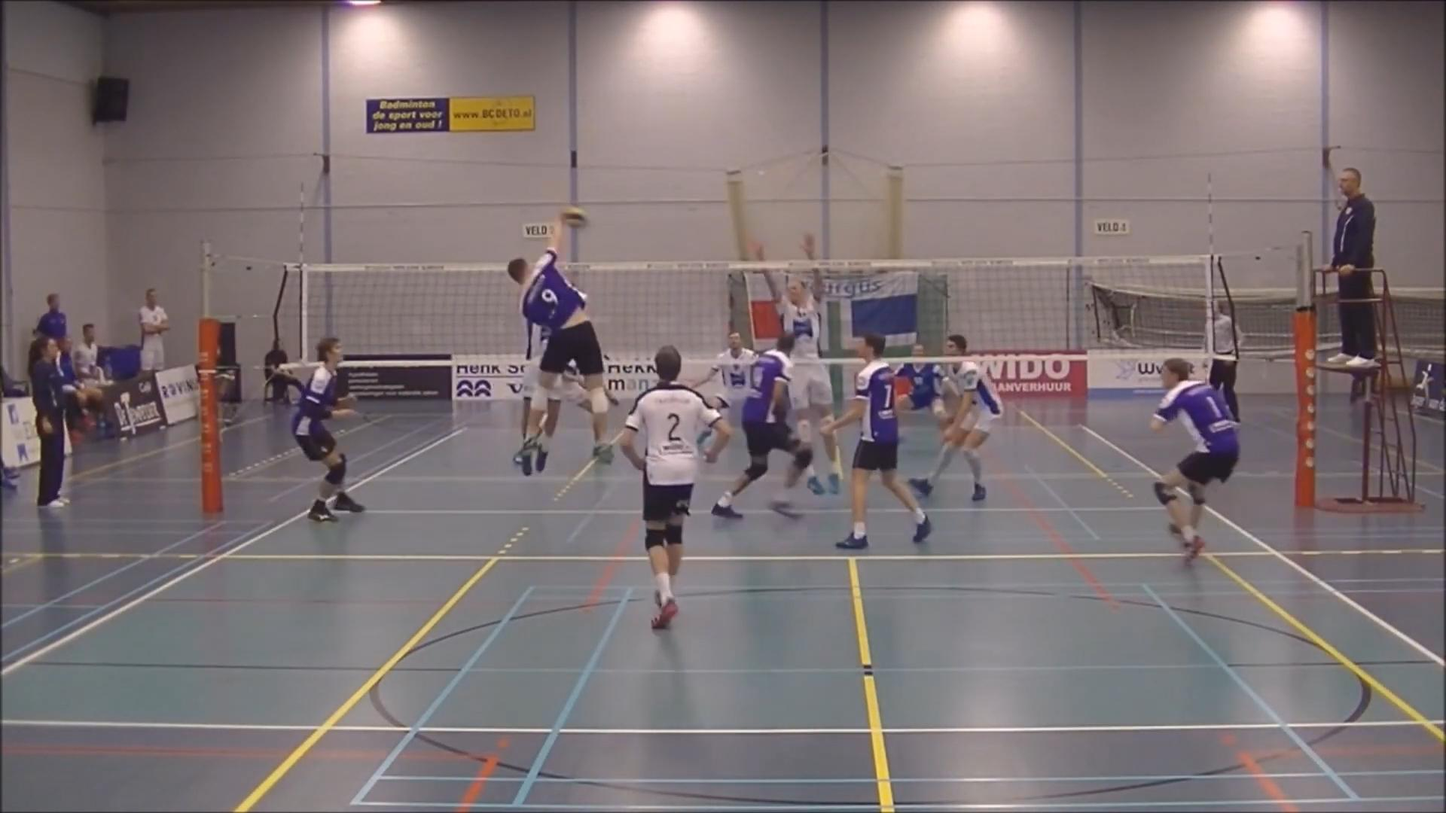attacco: (490, 211, 619, 461)
muro: (739, 227, 866, 501)
